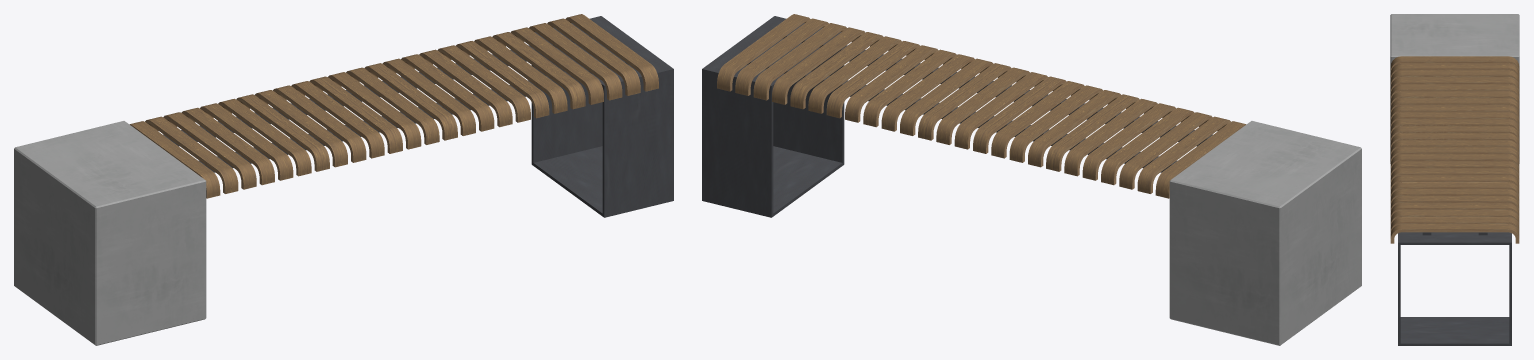
File: benchMaterials_1024x2048.gltf
3 views of the same model, side by side, from view 1: azimuth 30°, elevation 25°; view 2: azimuth 150°, elevation 25°; view 3: azimuth 270°, elevation 25° (orthographic). The views are drawn at different scales.
Parts seen in each view (by area): view 1: benchMultimat_low; view 2: benchMultimat_low; view 3: benchMultimat_low.
Part boxes in pixels (bbox=[...]): benchMultimat_low: bbox=[14, 14, 673, 345]; benchMultimat_low: bbox=[702, 14, 1361, 345]; benchMultimat_low: bbox=[1390, 14, 1519, 345].
Bounding box in the file's own units: 188 × 43 × 46.
Materials: 1 (1 with a texture image).
